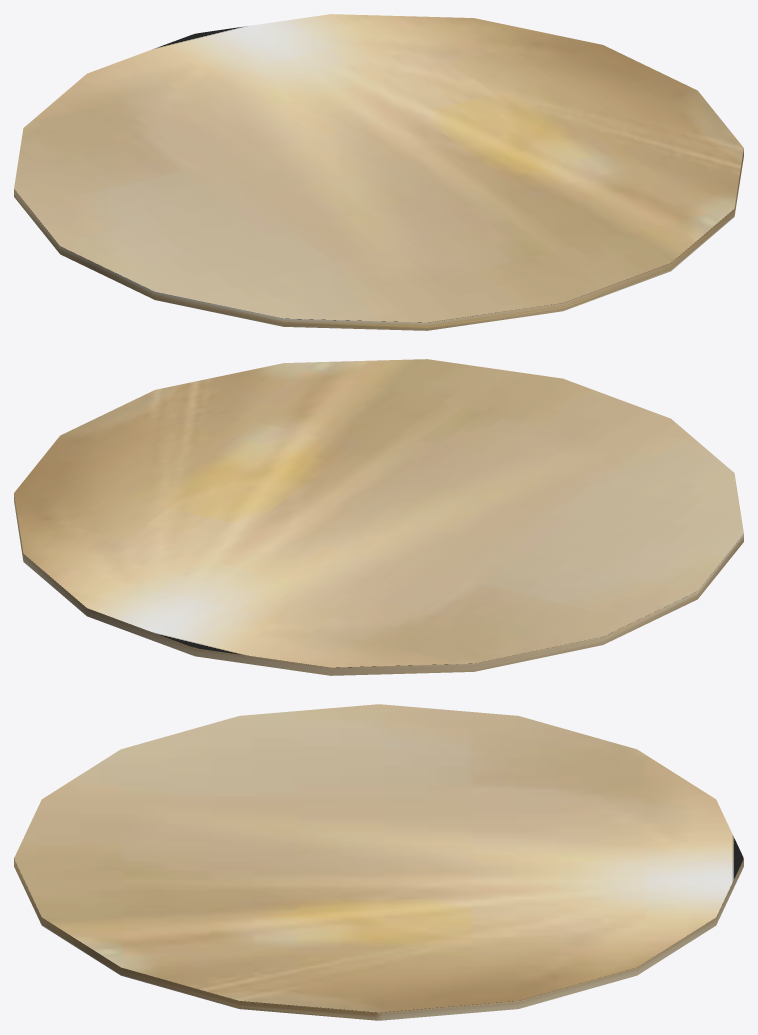
Rendered from LichtUnterPerson.obj.
3 renders of one model, top to bottom at view 1: azimuth 30°, elevation 25°; view 2: azimuth 150°, elevation 25°; view 3: azimuth 270°, elevation 25°, orthographic.
Visible parts, largest first — view 1: Zylinder; view 2: Zylinder; view 3: Zylinder.
Boxes of the visible parts, x1=… form: Zylinder: x1=14, y1=14, x2=743, y2=330; Zylinder: x1=14, y1=359, x2=743, y2=675; Zylinder: x1=14, y1=704, x2=743, y2=1020.
Size of the model in its own units: 114 by 1.41 by 114.
Materials: 1 (1 with a texture image).
